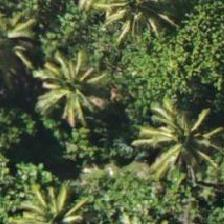coconut_tree: (14, 47, 104, 137), (126, 78, 216, 168)
